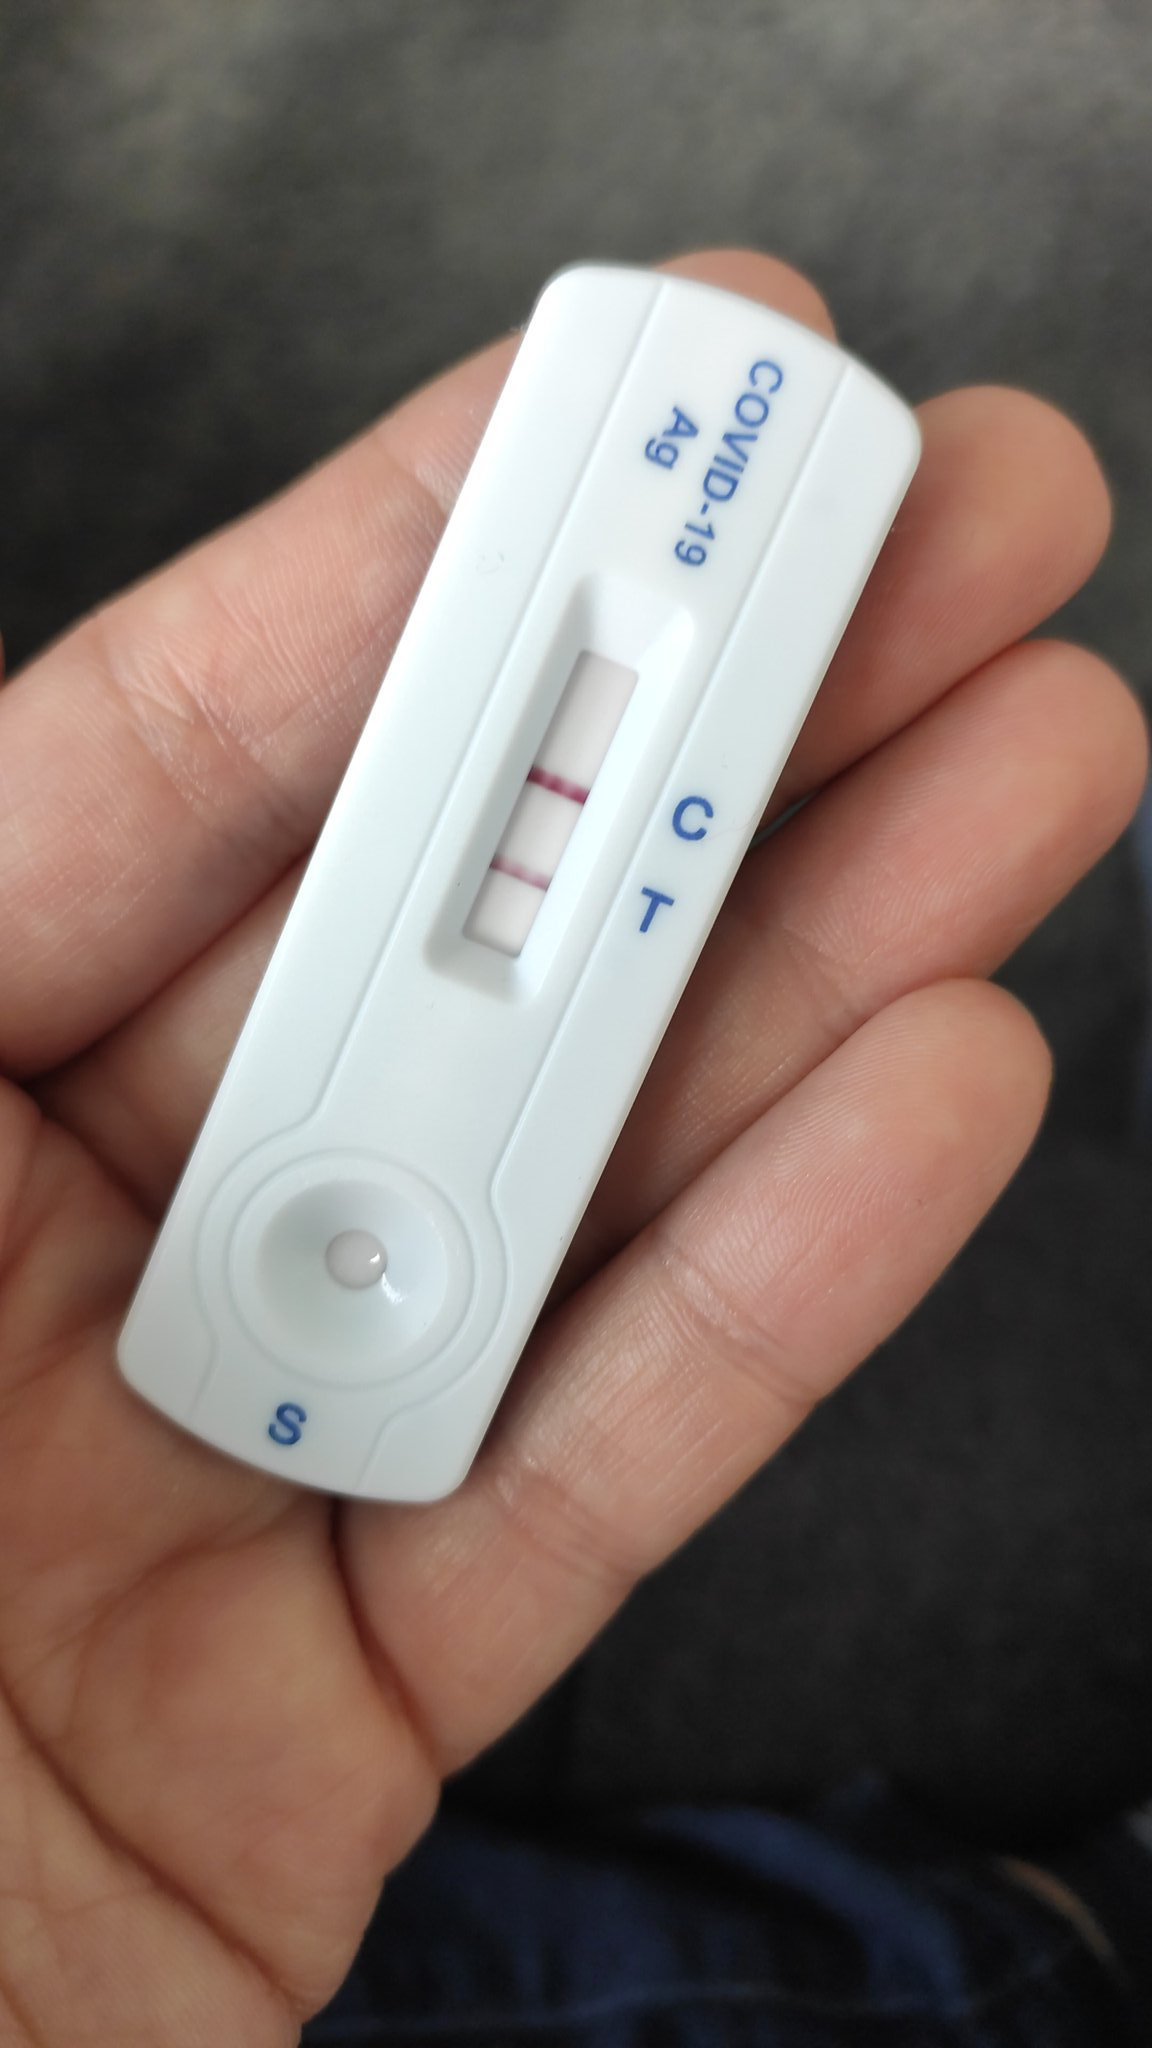positive: (485, 620, 605, 1011)
